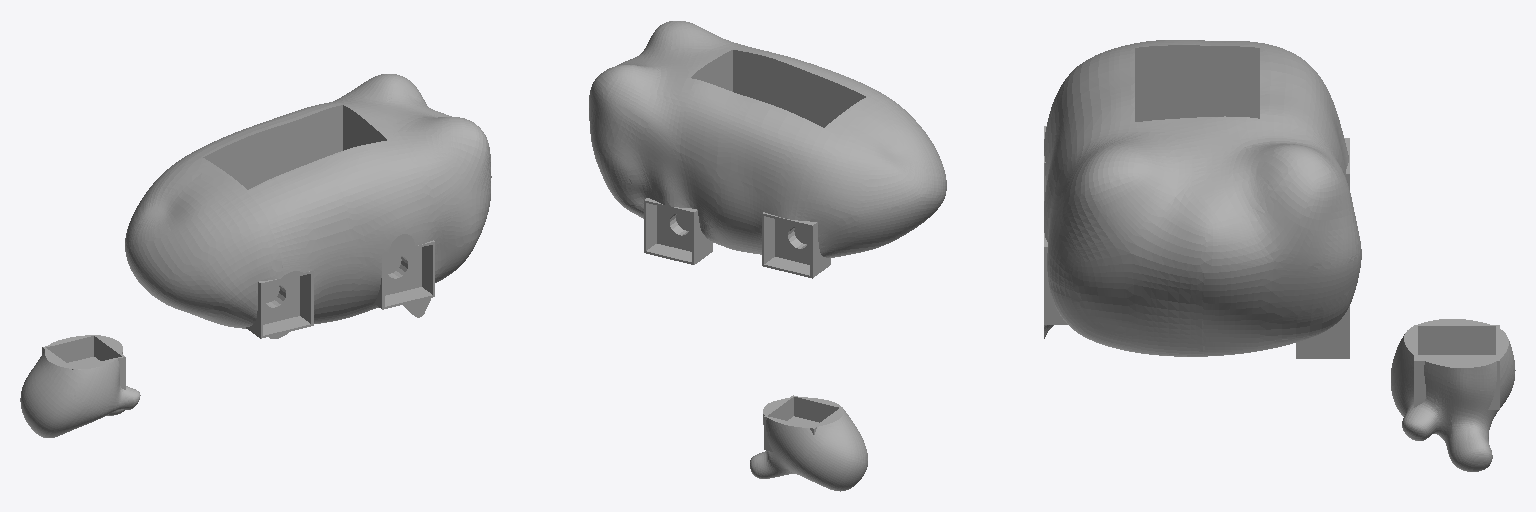
URDF robot description (FrogBot5_top-FrogBot5-x-0_bottom-FrogBot5-x-0):
<?xml version="1.0" ?>
<robot name="FrogBot5_top-FrogBot5-x-0_bottom-FrogBot5-x-0">

<material name="pla_5_percent_infill">
  <color rgba="0.700 0.700 0.700 1.000"/>
</material>

<link name="base_link">
  <inertial>
    <origin xyz="0 0 0" rpy="0 0 0"/>
    <mass value="1.4805118029196798"/>
    <inertia ixx="0.005197782430704162" iyy="0.011185972178397414" izz="0.012581059251066094" ixy="-0.00021020276154284792" iyz="-1.0906480127572513e-05" ixz="-0.0008439426287295243"/>
  </inertial>
  <visual>
    <origin xyz="0 0 0" rpy="0 0 0"/>
    <geometry>
      <mesh filename="simple_meshes/base_link.stl" scale="0.001 0.001 0.001"/>
    </geometry>
    <material name="pla_5_percent_infill"/>
  </visual>
  <collision>
    <origin xyz="0 0 0" rpy="0 0 0"/>
    <geometry>
      <mesh filename="simple_meshes/base_link.stl" scale="0.001 0.001 0.001"/>
    </geometry>
  </collision>
</link>

<link name="body_1_0_1">
  <inertial>
    <origin xyz="-0.05492 -0.106321 -0.011198" rpy="0 0 0"/>
    <mass value="0.0284207214045757"/>
    <inertia ixx="1.8296447003283566e-05" iyy="2.0870630875248643e-05" izz="1.0893700887979374e-05" ixy="-1.1136058428664491e-07" iyz="-1.342200551361144e-06" ixz="-7.152540863704391e-07"/>
  </inertial>
  <visual>
    <origin xyz="-0.05492 -0.106321 -0.011198" rpy="0 0 0"/>
    <geometry>
      <mesh filename="simple_meshes/body_1_0_1.stl" scale="0.001 0.001 0.001"/>
    </geometry>
    <material name="pla_5_percent_infill"/>
  </visual>
  <collision>
    <origin xyz="-0.05492 -0.106321 -0.011198" rpy="0 0 0"/>
    <geometry>
      <mesh filename="simple_meshes/body_1_0_1.stl" scale="0.001 0.001 0.001"/>
    </geometry>
  </collision>
</link>

<link name="body_1_1_1">
  <inertial>
    <origin xyz="0.058377 -0.106321 -0.025493" rpy="0 0 0"/>
    <mass value="0.0467007786258117"/>
    <inertia ixx="3.6672199389361755e-05" iyy="5.7293313082967356e-05" izz="3.464596030907491e-05" ixy="-1.9037876071861066e-06" iyz="-1.0296517680480336e-06" ixz="-1.8833200583365863e-05"/>
  </inertial>
  <visual>
    <origin xyz="0.058377 -0.106321 -0.025493" rpy="0 0 0"/>
    <geometry>
      <mesh filename="simple_meshes/body_1_1_1.stl" scale="0.001 0.001 0.001"/>
    </geometry>
    <material name="pla_5_percent_infill"/>
  </visual>
  <collision>
    <origin xyz="0.058377 -0.106321 -0.025493" rpy="0 0 0"/>
    <geometry>
      <mesh filename="simple_meshes/body_1_1_1.stl" scale="0.001 0.001 0.001"/>
    </geometry>
  </collision>
</link>

<link name="body_1_2_1">
  <inertial>
    <origin xyz="-0.053934 0.106321 -0.032331" rpy="0 0 0"/>
    <mass value="0.03941235650856735"/>
    <inertia ixx="3.385973830261307e-05" iyy="3.8768336306990725e-05" izz="1.4929205440376413e-05" ixy="-5.7057865729382394e-08" iyz="5.05261703371915e-07" ixz="4.962604045759882e-06"/>
  </inertial>
  <visual>
    <origin xyz="-0.053934 0.106321 -0.032331" rpy="0 0 0"/>
    <geometry>
      <mesh filename="simple_meshes/body_1_2_1.stl" scale="0.001 0.001 0.001"/>
    </geometry>
    <material name="pla_5_percent_infill"/>
  </visual>
  <collision>
    <origin xyz="-0.053934 0.106321 -0.032331" rpy="0 0 0"/>
    <geometry>
      <mesh filename="simple_meshes/body_1_2_1.stl" scale="0.001 0.001 0.001"/>
    </geometry>
  </collision>
</link>

<link name="body_1_3_1">
  <inertial>
    <origin xyz="0.057483 0.106321 -0.032919" rpy="0 0 0"/>
    <mass value="0.0450614391280621"/>
    <inertia ixx="3.885426826099529e-05" iyy="5.497182815432166e-05" izz="2.7734327558284495e-05" ixy="-4.1353950352008943e-07" iyz="-1.0409302496949935e-06" ixz="-1.6855625718216187e-05"/>
  </inertial>
  <visual>
    <origin xyz="0.057483 0.106321 -0.032919" rpy="0 0 0"/>
    <geometry>
      <mesh filename="simple_meshes/body_1_3_1.stl" scale="0.001 0.001 0.001"/>
    </geometry>
    <material name="pla_5_percent_infill"/>
  </visual>
  <collision>
    <origin xyz="0.057483 0.106321 -0.032919" rpy="0 0 0"/>
    <geometry>
      <mesh filename="simple_meshes/body_1_3_1.stl" scale="0.001 0.001 0.001"/>
    </geometry>
  </collision>
</link>

<link name="body_2_0_1">
  <inertial>
    <origin xyz="-0.051784 -0.142449 0.070454" rpy="0 0 0"/>
    <mass value="0.07119234492465876"/>
    <inertia ixx="6.380687879835268e-05" iyy="7.117852254104394e-05" izz="9.170108759015694e-05" ixy="-4.6095684011031855e-06" iyz="3.17495900156446e-06" ixz="-2.5621992589072327e-07"/>
  </inertial>
  <visual>
    <origin xyz="-0.051784 -0.142449 0.070454" rpy="0 0 0"/>
    <geometry>
      <mesh filename="simple_meshes/body_2_0_1.stl" scale="0.001 0.001 0.001"/>
    </geometry>
    <material name="pla_5_percent_infill"/>
  </visual>
  <collision>
    <origin xyz="-0.051784 -0.142449 0.070454" rpy="0 0 0"/>
    <geometry>
      <mesh filename="simple_meshes/body_2_0_1.stl" scale="0.001 0.001 0.001"/>
    </geometry>
  </collision>
</link>

<link name="body_2_1_1">
  <inertial>
    <origin xyz="0.108798 -0.146527 0.070454" rpy="0 0 0"/>
    <mass value="0.07367072605228475"/>
    <inertia ixx="3.572427599797751e-05" iyy="5.400442872284094e-05" izz="5.974493842843395e-05" ixy="-1.6950979700041963e-06" iyz="1.0194224505776645e-08" ixz="-4.233505569543883e-07"/>
  </inertial>
  <visual>
    <origin xyz="0.108798 -0.146527 0.070454" rpy="0 0 0"/>
    <geometry>
      <mesh filename="simple_meshes/body_2_1_1.stl" scale="0.001 0.001 0.001"/>
    </geometry>
    <material name="pla_5_percent_infill"/>
  </visual>
  <collision>
    <origin xyz="0.108798 -0.146527 0.070454" rpy="0 0 0"/>
    <geometry>
      <mesh filename="simple_meshes/body_2_1_1.stl" scale="0.001 0.001 0.001"/>
    </geometry>
  </collision>
</link>

<link name="body_2_2_1">
  <inertial>
    <origin xyz="-0.065031 0.146225 0.070454" rpy="0 0 0"/>
    <mass value="0.07006632208772473"/>
    <inertia ixx="6.299021138840045e-05" iyy="6.12642794647505e-05" izz="8.398243771008391e-05" ixy="6.100618330018141e-06" iyz="-1.3910502678364436e-06" ixz="-2.386744684835661e-06"/>
  </inertial>
  <visual>
    <origin xyz="-0.065031 0.146225 0.070454" rpy="0 0 0"/>
    <geometry>
      <mesh filename="simple_meshes/body_2_2_1.stl" scale="0.001 0.001 0.001"/>
    </geometry>
    <material name="pla_5_percent_infill"/>
  </visual>
  <collision>
    <origin xyz="-0.065031 0.146225 0.070454" rpy="0 0 0"/>
    <geometry>
      <mesh filename="simple_meshes/body_2_2_1.stl" scale="0.001 0.001 0.001"/>
    </geometry>
  </collision>
</link>

<link name="body_2_3_1">
  <inertial>
    <origin xyz="0.101339 0.150086 0.070454" rpy="0 0 0"/>
    <mass value="0.08619964943966073"/>
    <inertia ixx="4.660632582605129e-05" iyy="7.608426308509204e-05" izz="7.477763479257727e-05" ixy="6.638155872055497e-07" iyz="-1.990505729709954e-06" ixz="4.721548914119085e-06"/>
  </inertial>
  <visual>
    <origin xyz="0.101339 0.150086 0.070454" rpy="0 0 0"/>
    <geometry>
      <mesh filename="simple_meshes/body_2_3_1.stl" scale="0.001 0.001 0.001"/>
    </geometry>
    <material name="pla_5_percent_infill"/>
  </visual>
  <collision>
    <origin xyz="0.101339 0.150086 0.070454" rpy="0 0 0"/>
    <geometry>
      <mesh filename="simple_meshes/body_2_3_1.stl" scale="0.001 0.001 0.001"/>
    </geometry>
  </collision>
</link>

<joint name="joint_1_0" type="revolute">
  <origin xyz="0.05492 0.106321 0.011198" rpy="0 0 0"/>
  <parent link="base_link"/>
  <child link="body_1_0_1"/>
  <axis xyz="1.0 0.0 0.0"/>
  <limit upper="1.2" lower="-1.2" effort="3.8" velocity="5.4"/>
</joint>
<transmission name="joint_1_0_tran">
  <type>transmission_interface/SimpleTransmission</type>
  <joint name="joint_1_0">
    <hardwareInterface>PositionJointInterface</hardwareInterface>
  </joint>
  <actuator name="joint_1_0_actr">
    <hardwareInterface>PositionJointInterface</hardwareInterface>
    <mechanicalReduction>1</mechanicalReduction>
  </actuator>
</transmission>

<joint name="joint_1_1" type="revolute">
  <origin xyz="-0.058377 0.106321 0.025493" rpy="0 0 0"/>
  <parent link="base_link"/>
  <child link="body_1_1_1"/>
  <axis xyz="1.0 0.0 0.0"/>
  <limit upper="1.2" lower="-1.2" effort="3.8" velocity="5.4"/>
</joint>
<transmission name="joint_1_1_tran">
  <type>transmission_interface/SimpleTransmission</type>
  <joint name="joint_1_1">
    <hardwareInterface>PositionJointInterface</hardwareInterface>
  </joint>
  <actuator name="joint_1_1_actr">
    <hardwareInterface>PositionJointInterface</hardwareInterface>
    <mechanicalReduction>1</mechanicalReduction>
  </actuator>
</transmission>

<joint name="joint_1_2" type="revolute">
  <origin xyz="0.053934 -0.106321 0.032331" rpy="0 0 0"/>
  <parent link="base_link"/>
  <child link="body_1_2_1"/>
  <axis xyz="1.0 0.0 0.0"/>
  <limit upper="1.2" lower="-1.2" effort="3.8" velocity="5.4"/>
</joint>
<transmission name="joint_1_2_tran">
  <type>transmission_interface/SimpleTransmission</type>
  <joint name="joint_1_2">
    <hardwareInterface>PositionJointInterface</hardwareInterface>
  </joint>
  <actuator name="joint_1_2_actr">
    <hardwareInterface>PositionJointInterface</hardwareInterface>
    <mechanicalReduction>1</mechanicalReduction>
  </actuator>
</transmission>

<joint name="joint_1_3" type="revolute">
  <origin xyz="-0.057483 -0.106321 0.032919" rpy="0 0 0"/>
  <parent link="base_link"/>
  <child link="body_1_3_1"/>
  <axis xyz="1.0 0.0 0.0"/>
  <limit upper="1.2" lower="-1.2" effort="3.8" velocity="5.4"/>
</joint>
<transmission name="joint_1_3_tran">
  <type>transmission_interface/SimpleTransmission</type>
  <joint name="joint_1_3">
    <hardwareInterface>PositionJointInterface</hardwareInterface>
  </joint>
  <actuator name="joint_1_3_actr">
    <hardwareInterface>PositionJointInterface</hardwareInterface>
    <mechanicalReduction>1</mechanicalReduction>
  </actuator>
</transmission>

<joint name="joint_2_0" type="revolute">
  <origin xyz="-0.003136 0.036128 -0.081652" rpy="0 0 0"/>
  <parent link="body_1_0_1"/>
  <child link="body_2_0_1"/>
  <axis xyz="1.0 0.0 0.0"/>
  <limit upper="1.2" lower="-1.2" effort="3.8" velocity="5.4"/>
</joint>
<transmission name="joint_2_0_tran">
  <type>transmission_interface/SimpleTransmission</type>
  <joint name="joint_2_0">
    <hardwareInterface>PositionJointInterface</hardwareInterface>
  </joint>
  <actuator name="joint_2_0_actr">
    <hardwareInterface>PositionJointInterface</hardwareInterface>
    <mechanicalReduction>1</mechanicalReduction>
  </actuator>
</transmission>

<joint name="joint_2_1" type="revolute">
  <origin xyz="-0.050421 0.040206 -0.095947" rpy="0 0 0"/>
  <parent link="body_1_1_1"/>
  <child link="body_2_1_1"/>
  <axis xyz="1.0 0.0 0.0"/>
  <limit upper="1.2" lower="-1.2" effort="3.8" velocity="5.4"/>
</joint>
<transmission name="joint_2_1_tran">
  <type>transmission_interface/SimpleTransmission</type>
  <joint name="joint_2_1">
    <hardwareInterface>PositionJointInterface</hardwareInterface>
  </joint>
  <actuator name="joint_2_1_actr">
    <hardwareInterface>PositionJointInterface</hardwareInterface>
    <mechanicalReduction>1</mechanicalReduction>
  </actuator>
</transmission>

<joint name="joint_2_2" type="revolute">
  <origin xyz="0.011097 -0.039904 -0.102785" rpy="0 0 0"/>
  <parent link="body_1_2_1"/>
  <child link="body_2_2_1"/>
  <axis xyz="1.0 0.0 0.0"/>
  <limit upper="1.2" lower="-1.2" effort="3.8" velocity="5.4"/>
</joint>
<transmission name="joint_2_2_tran">
  <type>transmission_interface/SimpleTransmission</type>
  <joint name="joint_2_2">
    <hardwareInterface>PositionJointInterface</hardwareInterface>
  </joint>
  <actuator name="joint_2_2_actr">
    <hardwareInterface>PositionJointInterface</hardwareInterface>
    <mechanicalReduction>1</mechanicalReduction>
  </actuator>
</transmission>

<joint name="joint_2_3" type="revolute">
  <origin xyz="-0.043856 -0.043765 -0.103373" rpy="0 0 0"/>
  <parent link="body_1_3_1"/>
  <child link="body_2_3_1"/>
  <axis xyz="1.0 0.0 0.0"/>
  <limit upper="1.2" lower="-1.2" effort="3.8" velocity="5.4"/>
</joint>
<transmission name="joint_2_3_tran">
  <type>transmission_interface/SimpleTransmission</type>
  <joint name="joint_2_3">
    <hardwareInterface>PositionJointInterface</hardwareInterface>
  </joint>
  <actuator name="joint_2_3_actr">
    <hardwareInterface>PositionJointInterface</hardwareInterface>
    <mechanicalReduction>1</mechanicalReduction>
  </actuator>
</transmission>

</robot>

--- Facts derived from the render (not from the file) ---
The picture shows the robot from 3 angles, left to right: view 1: azimuth 30°, elevation 25°; view 2: azimuth 150°, elevation 25°; view 3: azimuth 270°, elevation 25°; orthographic projection.
Model FrogBot5_top-FrogBot5-x-0_bottom-FrogBot5-x-0 with 9 links and 8 joints (8 revolute), rooted at base_link, posed every joint at zero.
Visible links, largest first — view 1: base_link, body_2_1_1; view 2: base_link, body_2_1_1; view 3: base_link, body_2_1_1.
Boxes of the visible links, x1,y1,x2,y2 form: base_link: (125, 74, 491, 338); body_2_1_1: (20, 335, 140, 437); base_link: (589, 21, 946, 278); body_2_1_1: (750, 395, 867, 491); base_link: (1044, 40, 1361, 358); body_2_1_1: (1391, 319, 1515, 471).
Size in the robot's own frame: 0.3265 by 0.2658 by 0.2896 metres.
2 mesh visuals loaded from 9 distinct referenced files (2 binary STL); not drawn: 7 (reference not matched to a file when rendering).